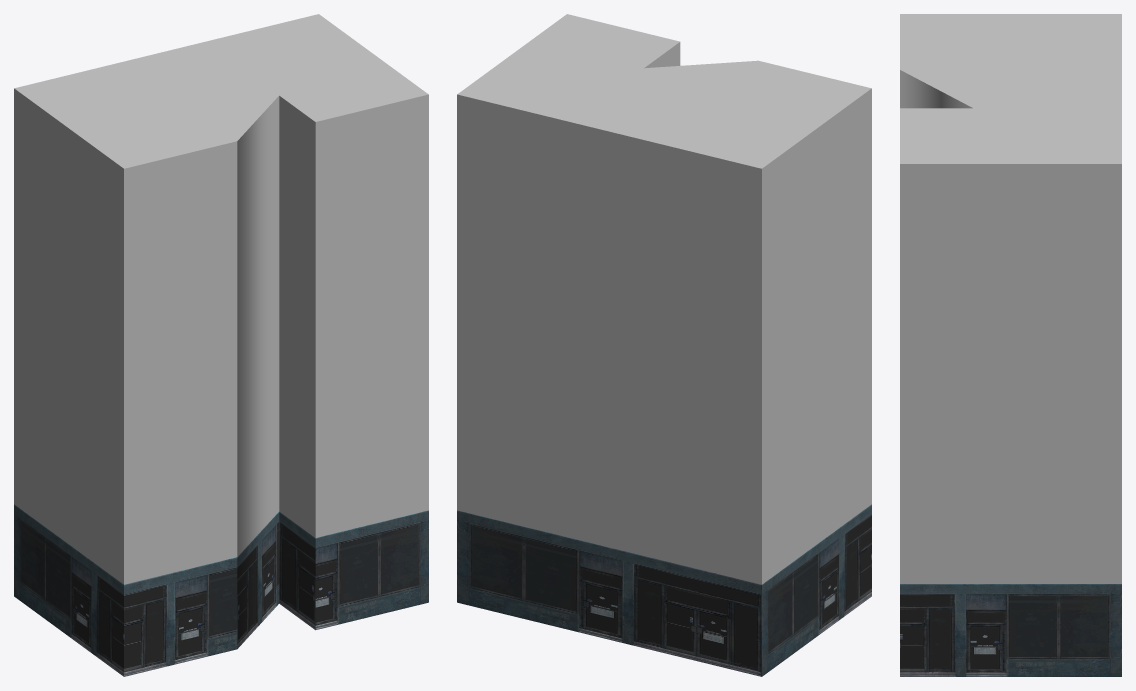
File: NEW building 9.fbx
3 views of the same model, side by side, from view 1: azimuth 30°, elevation 25°; view 2: azimuth 150°, elevation 25°; view 3: azimuth 270°, elevation 25° (orthographic).
Visible parts, largest first — view 1: Object_6.010; view 2: Object_6.010; view 3: Object_6.010.
Boxes of the visible parts, x1,y1,x2,y2 form: Object_6.010: (14,14,428,676); Object_6.010: (457,14,871,676); Object_6.010: (900,14,1121,676).
Size of the model in its own units: 213 by 339 by 133.
